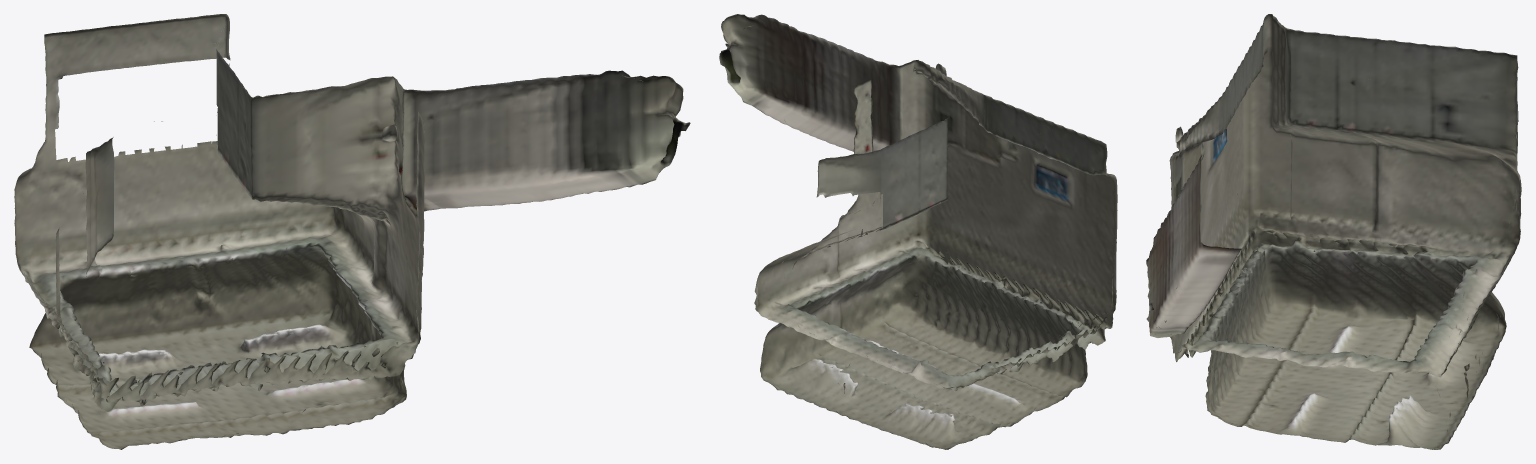
Rendered from collider.glb.
3 renders of one model, left to right at view 1: azimuth 30°, elevation 25°; view 2: azimuth 150°, elevation 25°; view 3: azimuth 270°, elevation 25°, orthographic. The views are drawn at different scales.
Visible parts, largest first — view 1: world; view 2: world; view 3: world.
Boxes of the visible parts, <box> form: world: <box>14,14,690,449</box>; world: <box>719,14,1117,449</box>; world: <box>1146,14,1521,449</box>.
Bounding box in the file's own units: 9.12 × 5.17 × 5.91.
